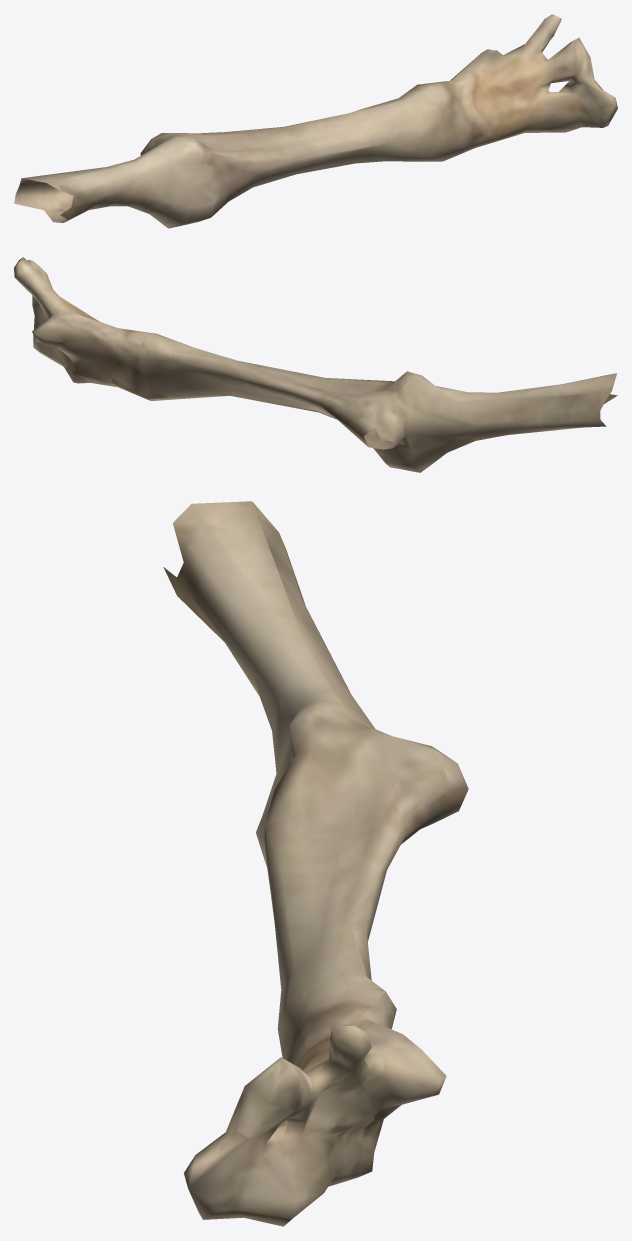
File: mammoth_leg_b.glb
The picture shows the model from 3 angles, top to bottom: view 1: azimuth 30°, elevation 25°; view 2: azimuth 150°, elevation 25°; view 3: azimuth 270°, elevation 25°; orthographic projection. The views are drawn at different scales.
Visible parts, largest first — view 1: SM_animal_skeleton_01.002_part4; view 2: SM_animal_skeleton_01.002_part4; view 3: SM_animal_skeleton_01.002_part4.
Part boxes in pixels (x1=…): SM_animal_skeleton_01.002_part4: x1=14, y1=14, x2=617, y2=228; SM_animal_skeleton_01.002_part4: x1=14, y1=257, x2=617, y2=472; SM_animal_skeleton_01.002_part4: x1=163, y1=501, x2=468, y2=1226.
Bounding box in the file's own units: 2.16 × 0.4054 × 0.4924.
Materials: 1 (1 with a texture image).
